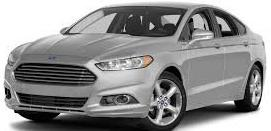Cars: (5, 3, 266, 130)
